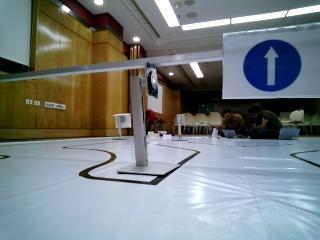straight: (222, 32, 320, 95)
